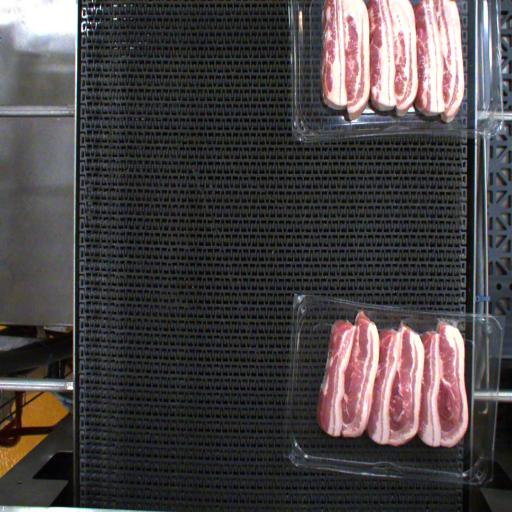packaging-error: (422, 315, 481, 340)
